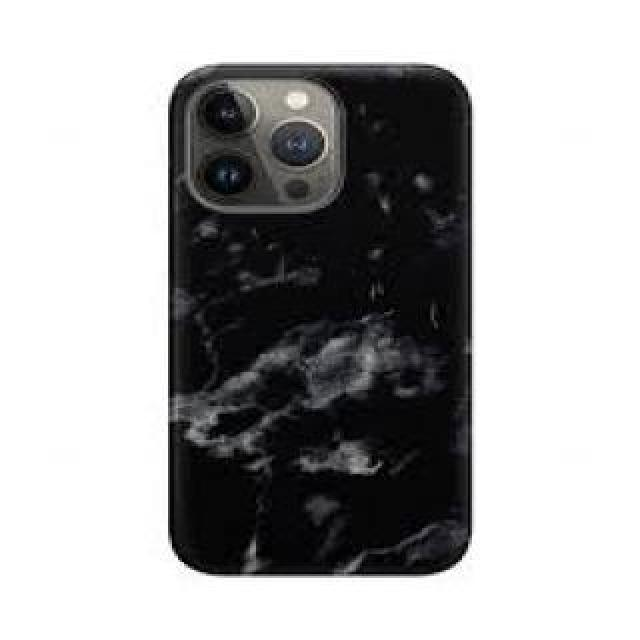smart phone: (138, 25, 524, 610)
